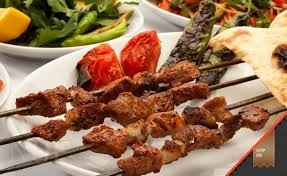kebap: (92, 61, 199, 102), (105, 83, 207, 125), (82, 120, 148, 157), (16, 86, 68, 116), (172, 125, 225, 151), (117, 144, 161, 175), (66, 102, 106, 130), (182, 106, 217, 128)
